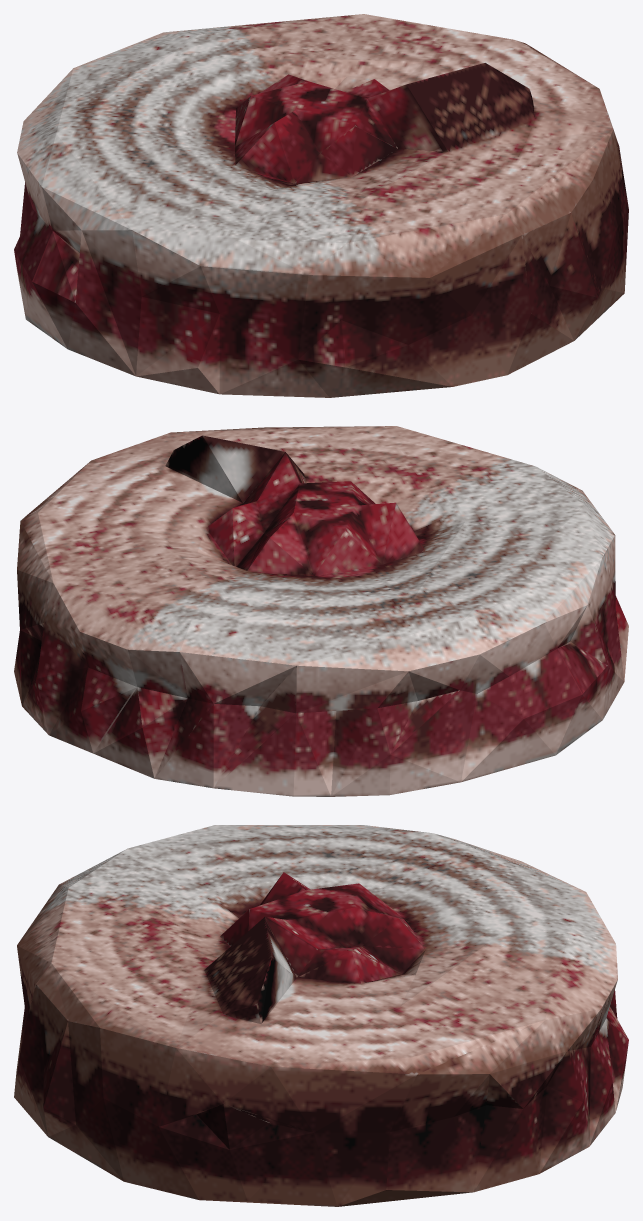
The model's file is cake.glb.
The picture shows the model from 3 angles, top to bottom: view 1: azimuth 30°, elevation 25°; view 2: azimuth 150°, elevation 25°; view 3: azimuth 270°, elevation 25°; orthographic projection. The views are drawn at different scales.
Visible parts, largest first — view 1: 20250913_g__teau_macaron_framboises.002_0; view 2: 20250913_g__teau_macaron_framboises.002_0; view 3: 20250913_g__teau_macaron_framboises.002_0.
Boxes of the visible parts, x1,y1,x2,y2 form: 20250913_g__teau_macaron_framboises.002_0: [14, 14, 628, 397]; 20250913_g__teau_macaron_framboises.002_0: [14, 426, 628, 796]; 20250913_g__teau_macaron_framboises.002_0: [14, 825, 628, 1206].
Size of the model in its own units: 0.1799 by 0.0611 by 0.1761.
1 material, 1 textured.
